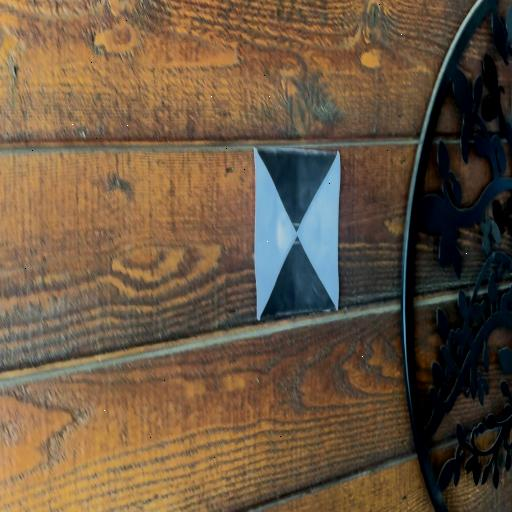target: (254, 148, 340, 320)
